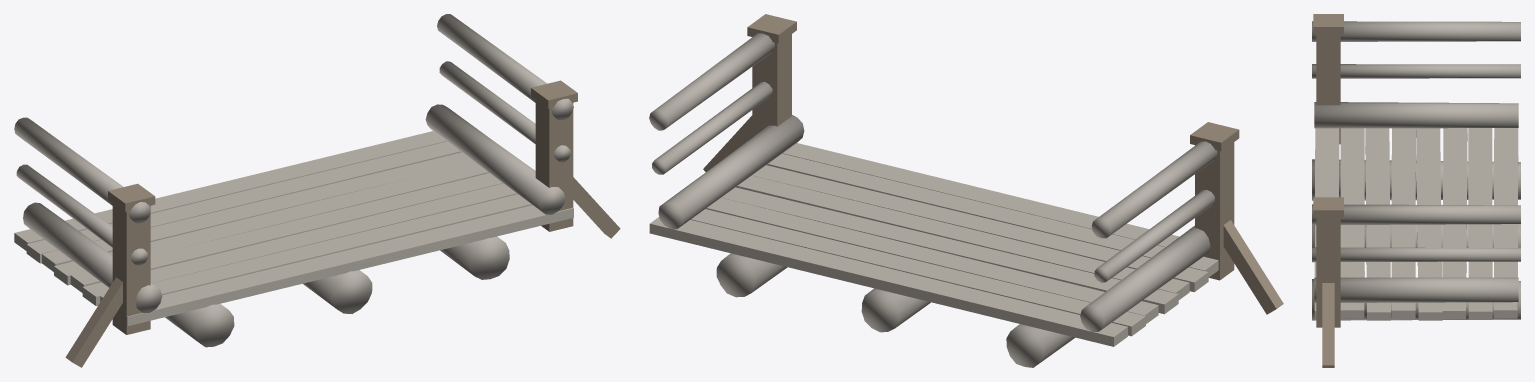
File: bridge-deck-4.2.glb
3 renders of one model, left to right at view 1: azimuth 30°, elevation 25°; view 2: azimuth 150°, elevation 25°; view 3: azimuth 270°, elevation 25°, orthographic. The views are drawn at different scales.
Parts seen in each view (by area): view 1: bridge-deck-4.2; view 2: bridge-deck-4.2; view 3: bridge-deck-4.2.
Part boxes in pixels (x1,y1,x2,y2): bridge-deck-4.2: [14, 14, 620, 367]; bridge-deck-4.2: [649, 14, 1283, 367]; bridge-deck-4.2: [1312, 14, 1520, 367].
Bounding box in the file's own units: 5.5 × 1.58 × 2.04.
